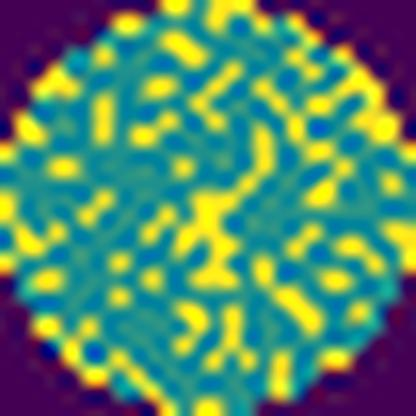Center: (173, 127, 277, 297)
